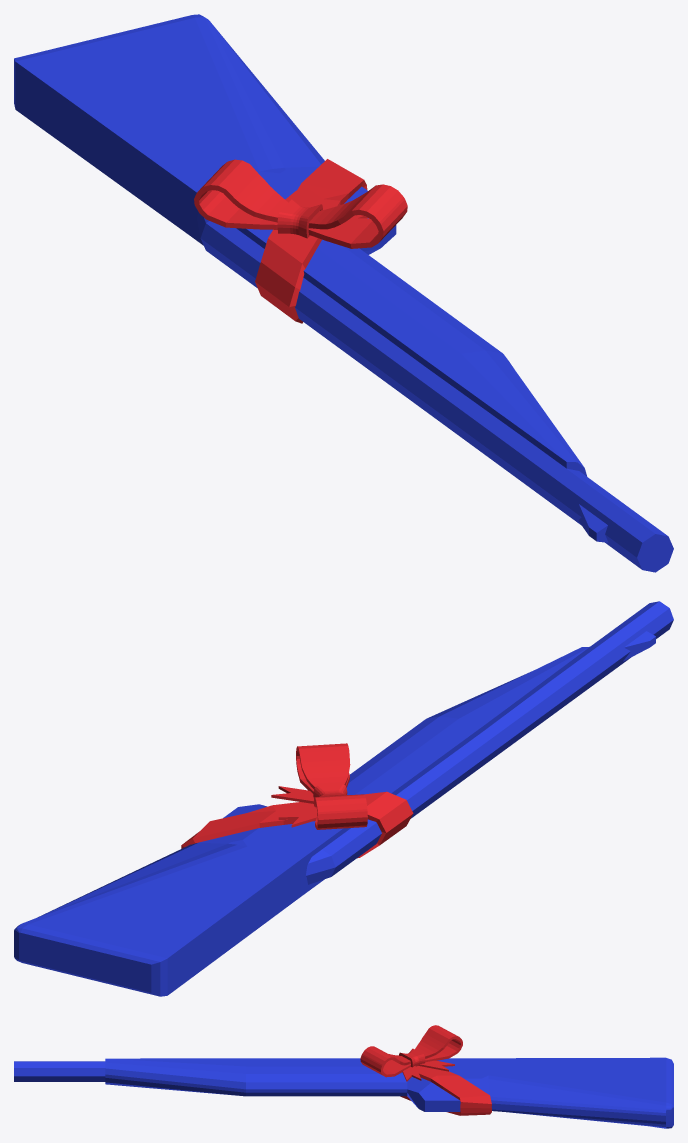
Rendered from RedRider.fbx.
3 renders of one model, top to bottom at view 1: azimuth 30°, elevation 25°; view 2: azimuth 150°, elevation 25°; view 3: azimuth 270°, elevation 25°, orthographic. The views are drawn at different scales.
Visible parts, largest first — view 1: Cube.005, Cylinder.013, Plane.011, Plane.008; view 2: Cube.005, Cylinder.013, Plane.011, Plane.008; view 3: Cube.005, Plane.011, Cylinder.013, Plane.008.
Boxes of the visible parts, x1,y1,x2,y2 form: Cube.005: [14, 14, 586, 476]; Cylinder.013: [197, 212, 673, 572]; Plane.011: [194, 159, 407, 248]; Plane.008: [255, 159, 367, 323]; Cube.005: [14, 646, 589, 996]; Cylinder.013: [306, 601, 673, 884]; Plane.011: [271, 743, 367, 829]; Plane.008: [181, 791, 413, 858]; Cube.005: [105, 1057, 673, 1128]; Plane.011: [360, 1025, 462, 1081]; Cylinder.013: [14, 1061, 105, 1081]; Plane.008: [389, 1055, 491, 1115].
Size of the model in its own units: 296 by 125 by 1408.
